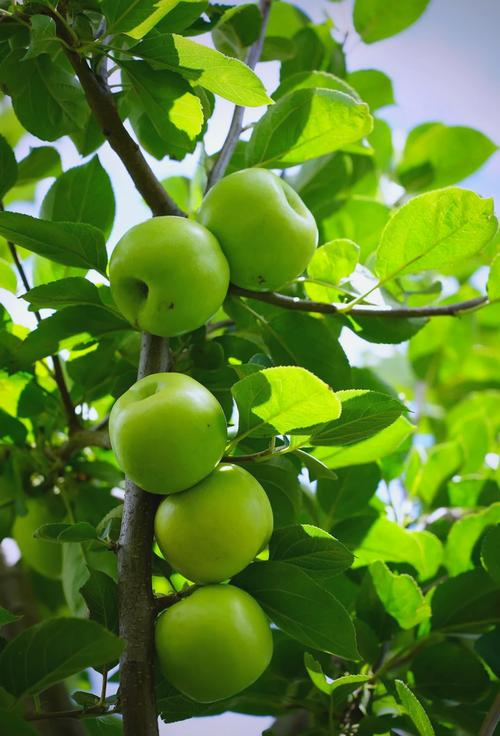unripe: (137, 576, 299, 710), (88, 201, 237, 338), (195, 161, 330, 306), (96, 370, 231, 492), (150, 464, 280, 580)
